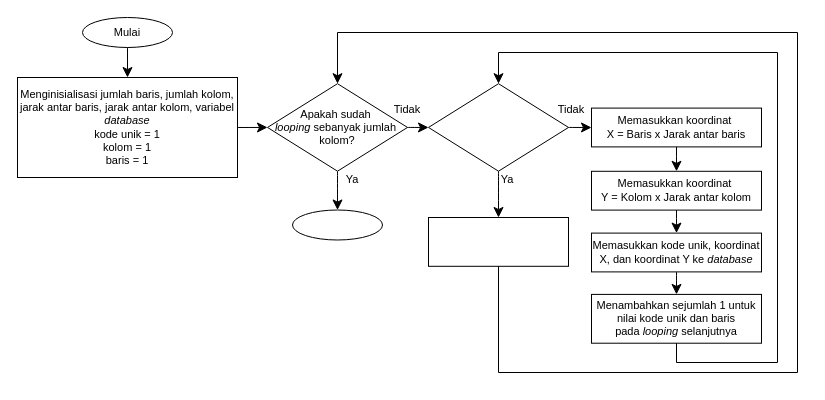
Image size: 825x400. Some labels were removed from this diagram. The box of each missing label's shape, as (x1, y1, x2, y2) in pixels:
Apakah sudah looping sebanyak jumlah baris?: (428, 83, 568, 171)
Menambahkan sejumlah 1 ke nilai kolom untuk looping berikutnya: (428, 216, 568, 266)
Selesai: (292, 209, 382, 240)
